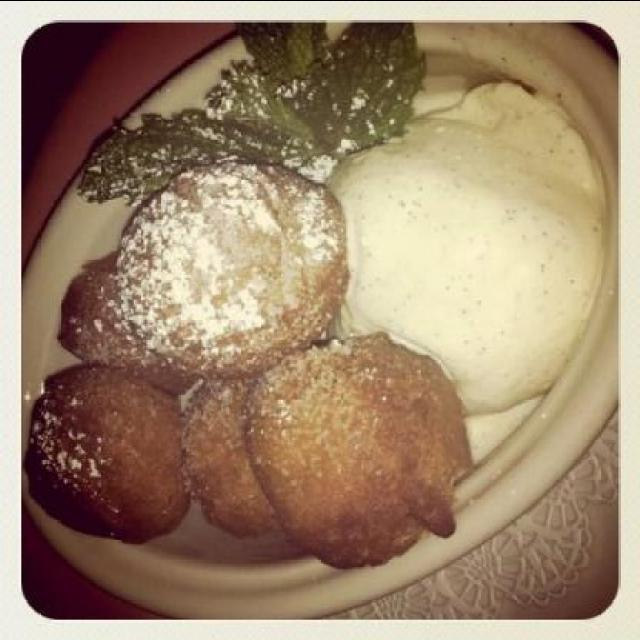Donuts: (25, 144, 458, 546)
